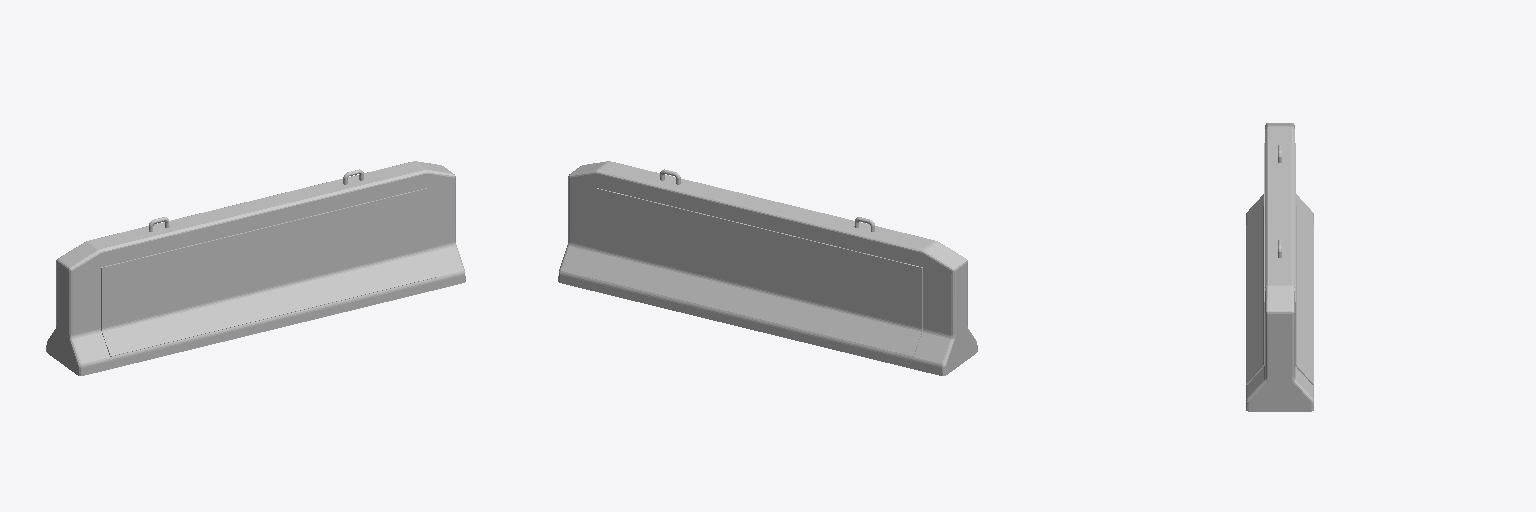
The model's file is barrier1.obj.
3 renders of one model, left to right at view 1: azimuth 30°, elevation 25°; view 2: azimuth 150°, elevation 25°; view 3: azimuth 270°, elevation 25°, orthographic.
Visible parts, largest first — view 1: Model; view 2: Model; view 3: Model.
Boxes of the visible parts, box(x1,y1,x2,y2) form: Model: box(46, 161, 465, 375); Model: box(558, 161, 977, 375); Model: box(1246, 123, 1313, 411).
Bounding box in the file's own units: 375 × 113 × 57.37.